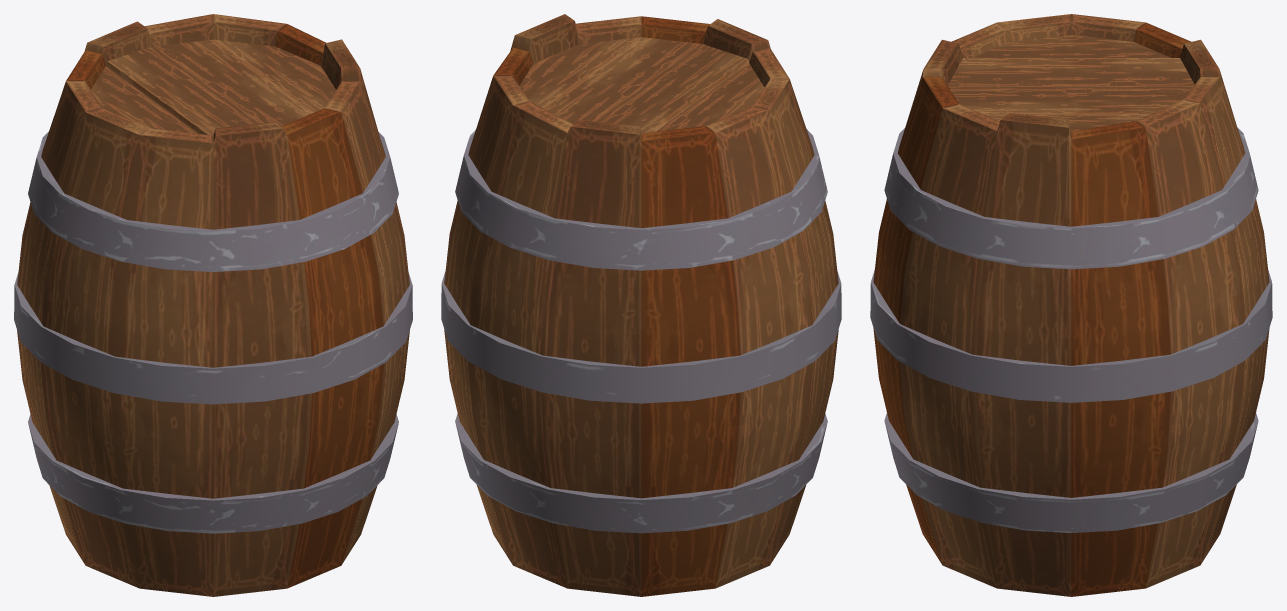
Rendered from Barrel.gltf.
3 renders of one model, left to right at view 1: azimuth 30°, elevation 25°; view 2: azimuth 150°, elevation 25°; view 3: azimuth 270°, elevation 25°, orthographic.
Parts seen in each view (by area): view 1: Barrel; view 2: Barrel; view 3: Barrel.
Part boxes in pixels (x1,y1,x2,y2): Barrel: [14, 14, 412, 596]; Barrel: [441, 14, 841, 596]; Barrel: [870, 14, 1272, 596].
Size of the model in its own units: 0.698 by 0.898 by 0.698.
Materials: 2 (2 with a texture image).
